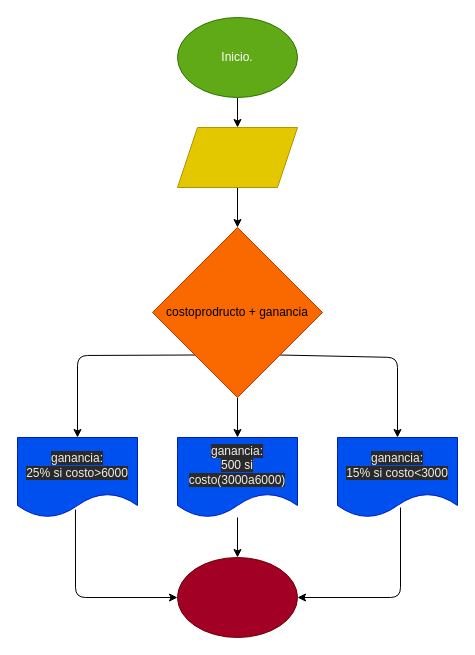
Some shapes in this 475 by 655 pixel diagram are drawn without their labels. Each missing label, with the centre of its shape:
costoproducto: (x=237, y=157)
Fin: (x=237, y=597)
